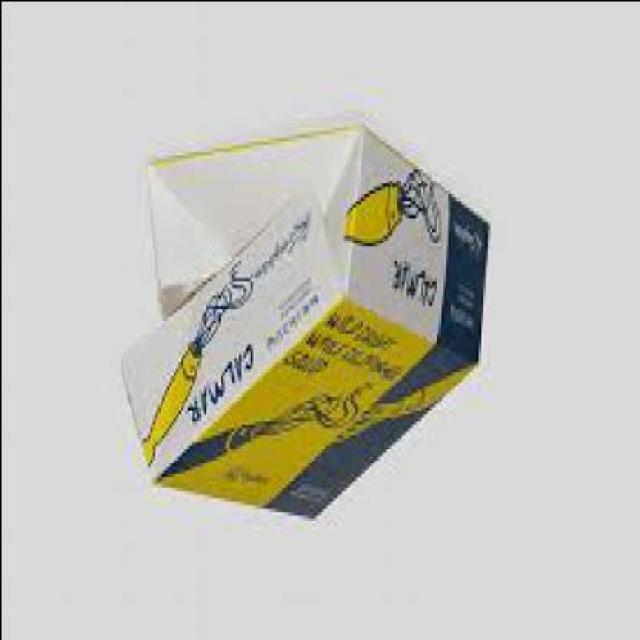box: (122, 119, 489, 522), (149, 123, 365, 323)
